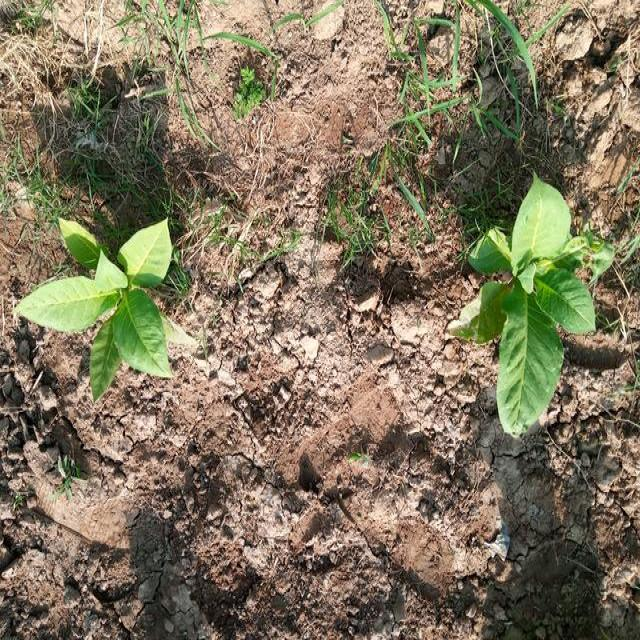crop: (462, 180, 604, 425), (18, 200, 182, 386)
